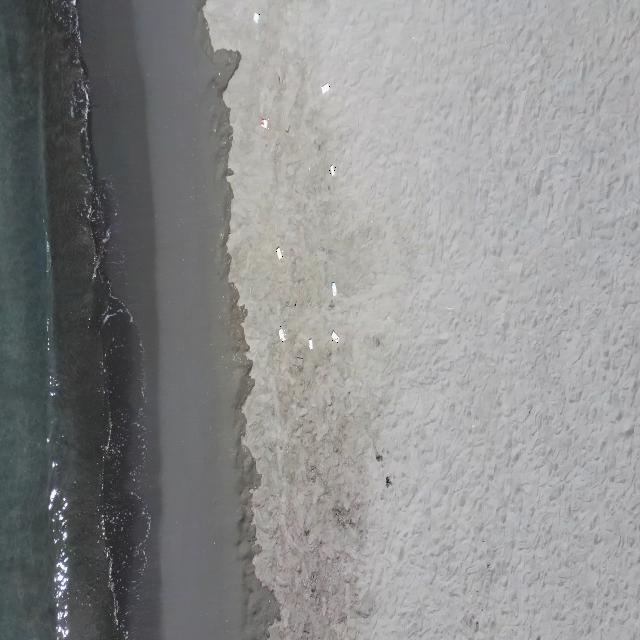Garbage: (331, 331, 339, 342), (328, 163, 335, 175), (260, 116, 267, 128), (252, 12, 259, 23), (276, 246, 281, 259), (279, 327, 284, 340), (320, 83, 328, 91), (307, 339, 312, 348), (332, 281, 335, 296)
